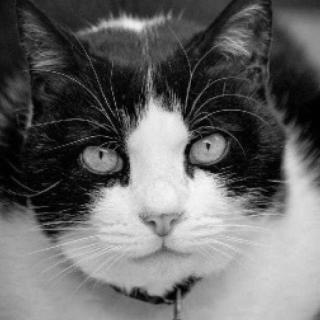cat: (14, 1, 287, 302)
nose: (133, 190, 189, 238)
